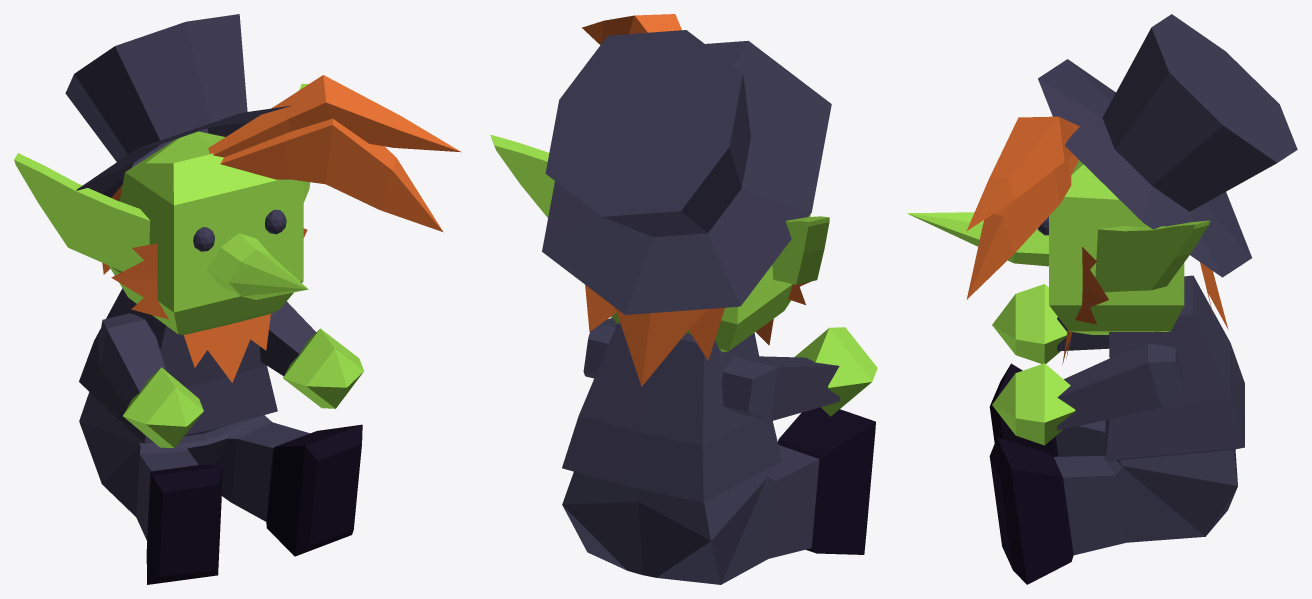
Rendered from vinnyplush.fbx.
3 renders of one model, left to right at view 1: azimuth 30°, elevation 25°; view 2: azimuth 150°, elevation 25°; view 3: azimuth 270°, elevation 25°, orthographic. The views are drawn at different scales.
Visible parts, largest first — view 1: Cube.007; view 2: Cube.007; view 3: Cube.007.
Part boxes in pixels (x1,y1,x2,y2): Cube.007: (14, 14, 461, 584); Cube.007: (490, 14, 877, 584); Cube.007: (907, 14, 1297, 584).
Size of the model in its own units: 322 by 454 by 318.
